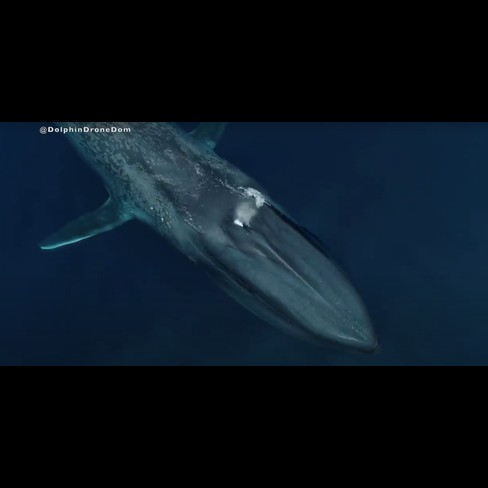bluewhale: (24, 120, 385, 361)
